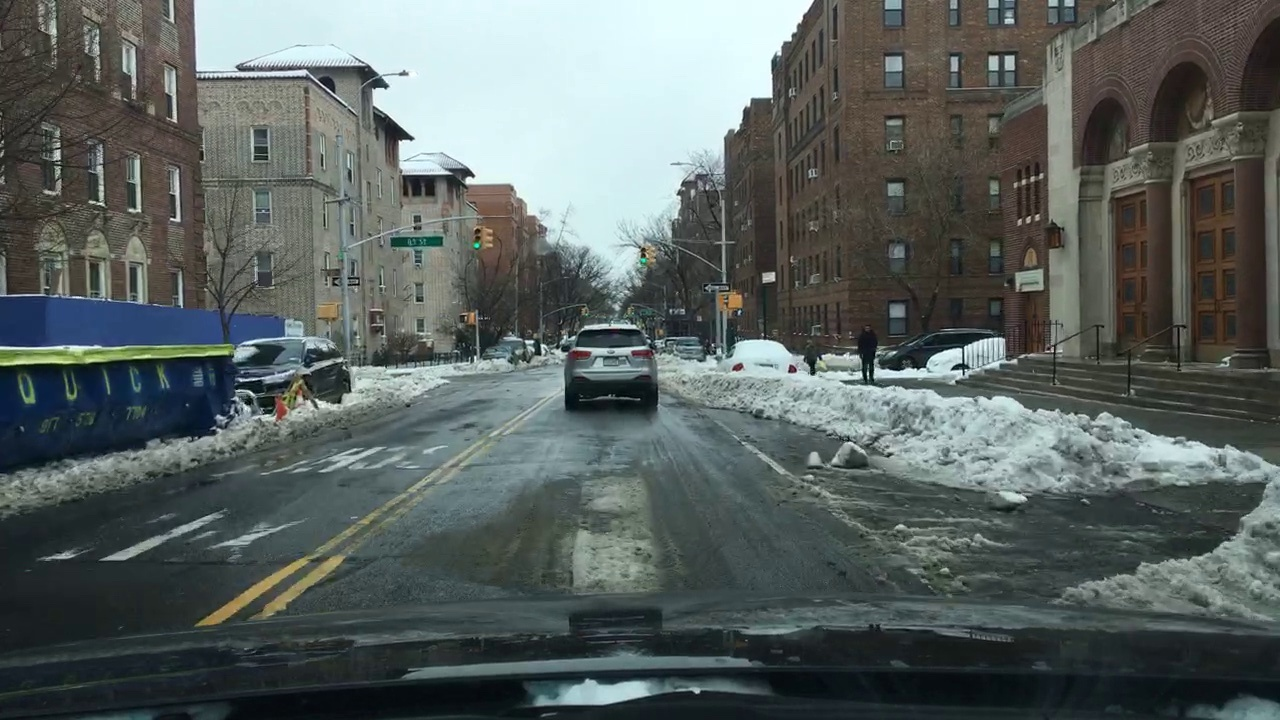car: (565, 320, 660, 412), (234, 338, 353, 411), (720, 339, 798, 380)
person: (856, 320, 882, 383), (802, 336, 823, 374)
traffic light: (470, 222, 497, 257), (638, 238, 658, 269)
